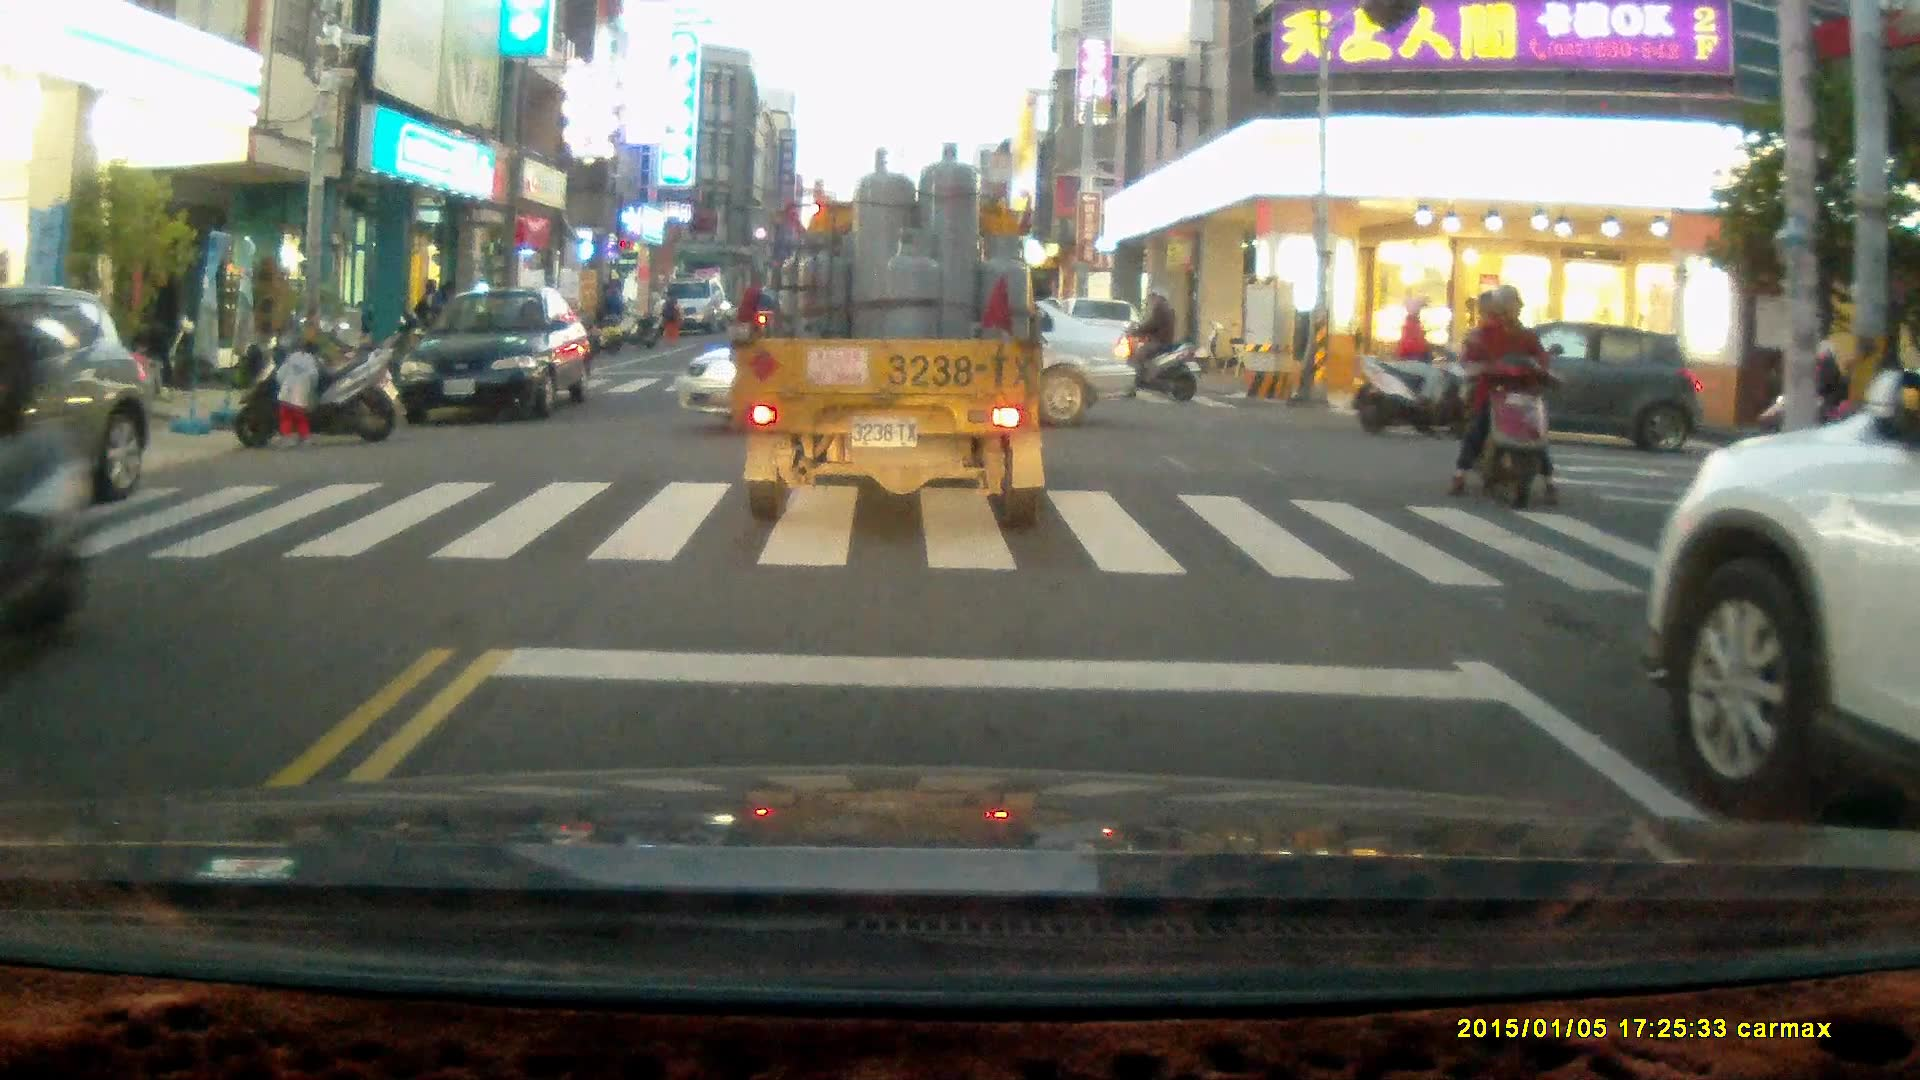pedestrian: (273, 339, 322, 451), (601, 278, 628, 341), (660, 286, 683, 344)
rider: (0, 282, 93, 674), (1448, 285, 1564, 512), (1350, 297, 1490, 440), (1746, 341, 1860, 461), (1103, 283, 1198, 403)
vehicle: (1638, 358, 1920, 821), (728, 139, 1049, 527), (1405, 324, 1702, 452), (395, 290, 595, 424), (655, 280, 729, 335)
